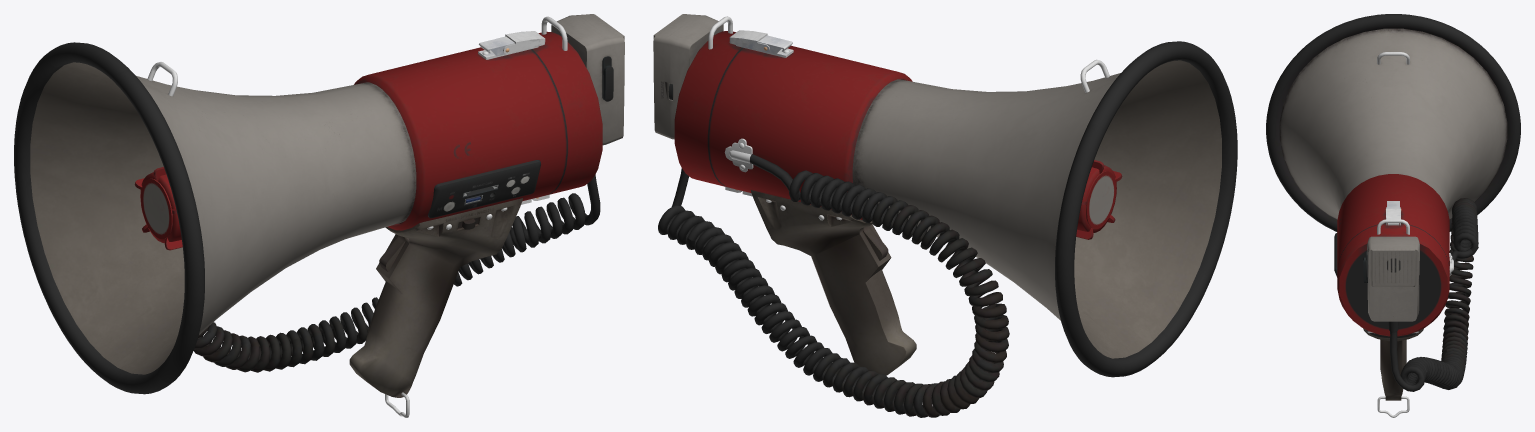
File: Megaphone_01_4k.gltf
3 views of the same model, side by side, from view 1: azimuth 30°, elevation 25°; view 2: azimuth 150°, elevation 25°; view 3: azimuth 270°, elevation 25° (orthographic). The views are drawn at different scales.
Visible parts, largest first — view 1: Megaphone_01; view 2: Megaphone_01; view 3: Megaphone_01.
Boxes of the visible parts, <box> form: Megaphone_01: <box>14,14,624,417</box>; Megaphone_01: <box>653,14,1237,417</box>; Megaphone_01: <box>1266,14,1520,417</box>.
Size of the model in its own units: 0.3707 by 0.3001 by 0.2285.
Materials: 1 (1 with a texture image).
